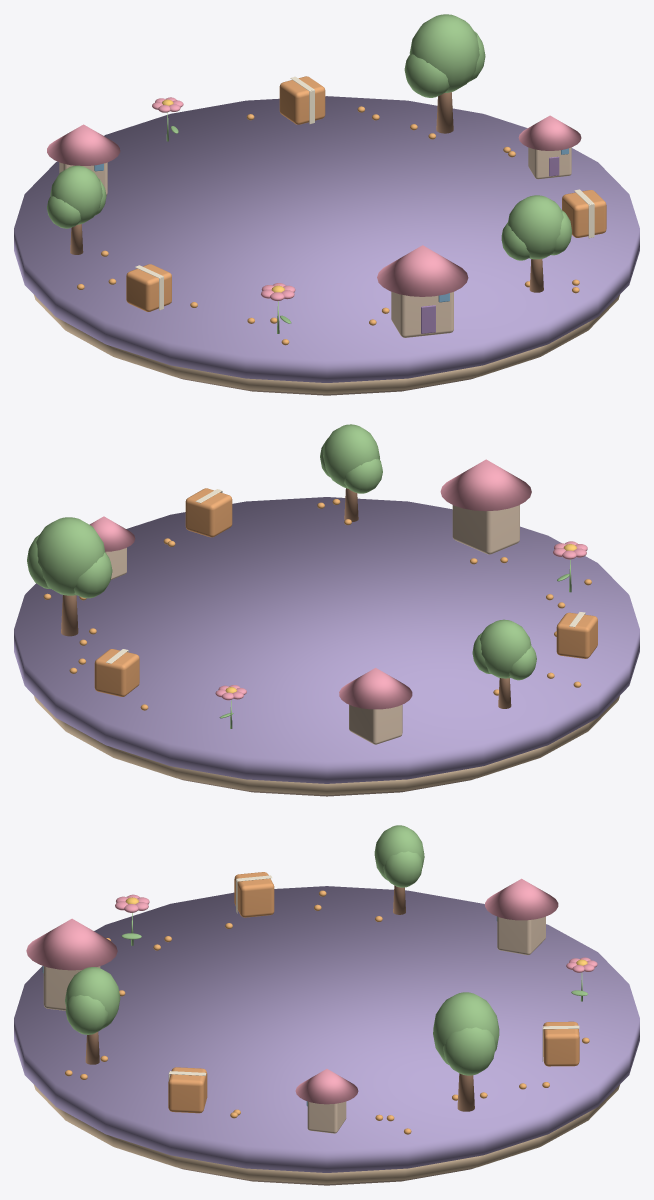
The model's file is world.glb.
3 renders of one model, top to bottom at view 1: azimuth 30°, elevation 25°; view 2: azimuth 150°, elevation 25°; view 3: azimuth 270°, elevation 25°, orthographic.
Visible parts, largest first — view 1: Cone, Cone.001, tree.001, house.003, tree.003, tree.002, house.001, house.002, parcel.001, parcel.002, parcel.003, flower.002; view 2: Cone, Cone.001, tree.001, house.003, house.002, tree.003, tree.002, parcel.003, parcel.001, parcel.002, house.001, flower.002; view 3: Cone, Cone.001, tree.001, house.003, house.002, tree.003, tree.002, house.001, parcel.003, parcel.002, parcel.001, flower.002 (+2 smaller).
Boxes of the visible parts, bbox=[...] form: Cone: bbox=[14, 96, 639, 382]; Cone.001: bbox=[33, 294, 620, 394]; tree.001: bbox=[404, 14, 485, 133]; house.003: bbox=[377, 245, 468, 337]; tree.003: bbox=[501, 195, 571, 292]; tree.002: bbox=[47, 165, 106, 254]; house.001: bbox=[518, 115, 581, 179]; house.002: bbox=[47, 124, 120, 195]; parcel.001: bbox=[279, 76, 325, 124]; parcel.002: bbox=[126, 264, 171, 311]; parcel.003: bbox=[562, 189, 606, 238]; flower.002: bbox=[261, 283, 295, 333]; Cone: bbox=[14, 497, 639, 783]; Cone.001: bbox=[34, 696, 619, 795]; tree.001: bbox=[27, 517, 112, 636]; house.003: bbox=[440, 459, 531, 554]; house.002: bbox=[339, 668, 412, 744]; tree.003: bbox=[320, 424, 382, 521]; tree.002: bbox=[472, 619, 536, 708]; parcel.003: bbox=[185, 488, 232, 537]; parcel.001: bbox=[94, 649, 139, 696]; parcel.002: bbox=[556, 612, 597, 658]; house.001: bbox=[89, 516, 135, 579]; flower.002: bbox=[553, 541, 587, 592]; Cone: bbox=[14, 886, 639, 1172]; Cone.001: bbox=[33, 1084, 620, 1184]; tree.001: bbox=[433, 992, 499, 1111]; house.003: bbox=[26, 918, 117, 1010]; house.002: bbox=[485, 878, 558, 955]; tree.003: bbox=[65, 967, 120, 1064]; tree.002: bbox=[374, 825, 424, 914]; house.001: bbox=[295, 1069, 358, 1133]; parcel.003: bbox=[168, 1067, 207, 1113]; parcel.002: bbox=[234, 872, 274, 917]; parcel.001: bbox=[542, 1021, 579, 1066]; flower.002: bbox=[115, 894, 149, 945].
Size of the model in its own units: 9.6 by 2.71 by 9.6.
